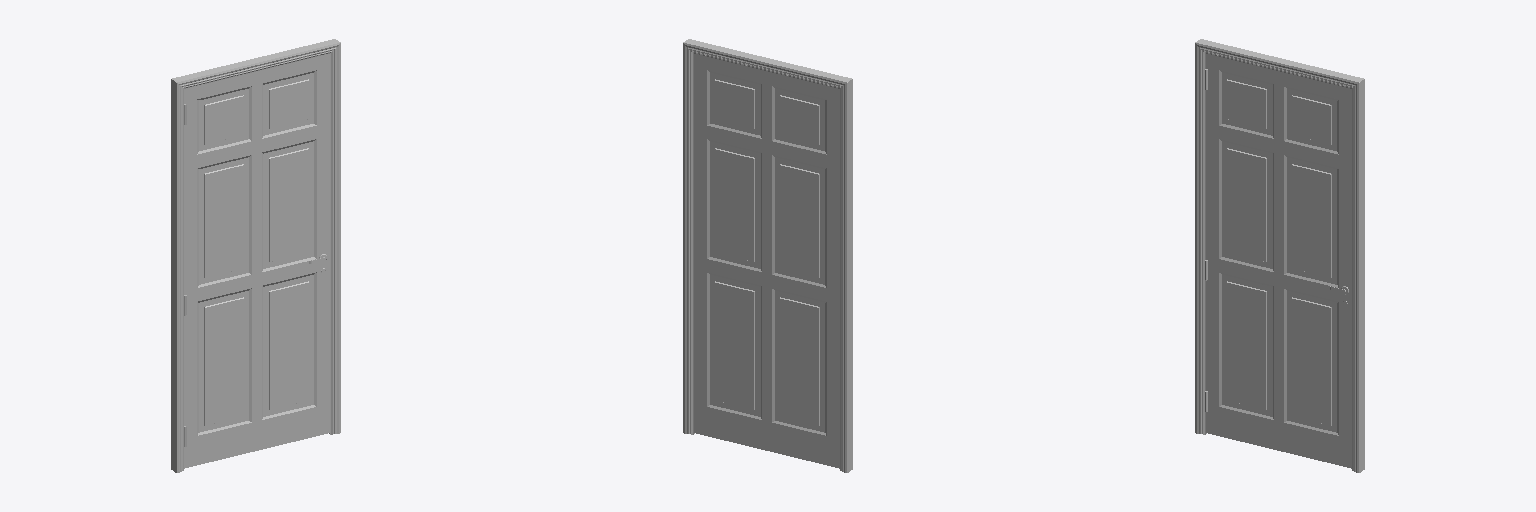
The model's file is door.obj.
3 views of the same model, side by side, from view 1: azimuth 30°, elevation 25°; view 2: azimuth 150°, elevation 25°; view 3: azimuth 330°, elevation 25° (orthographic).
Visible parts, largest first — view 1: 10057_wooden_door_v3_iterations-2; view 2: 10057_wooden_door_v3_iterations-2; view 3: 10057_wooden_door_v3_iterations-2.
Part boxes in pixels (x1,y1,x2,y2): 10057_wooden_door_v3_iterations-2: (171, 39, 340, 472); 10057_wooden_door_v3_iterations-2: (683, 39, 852, 472); 10057_wooden_door_v3_iterations-2: (1195, 39, 1364, 472).
Size of the model in its own units: 90.95 by 207 by 5.51.